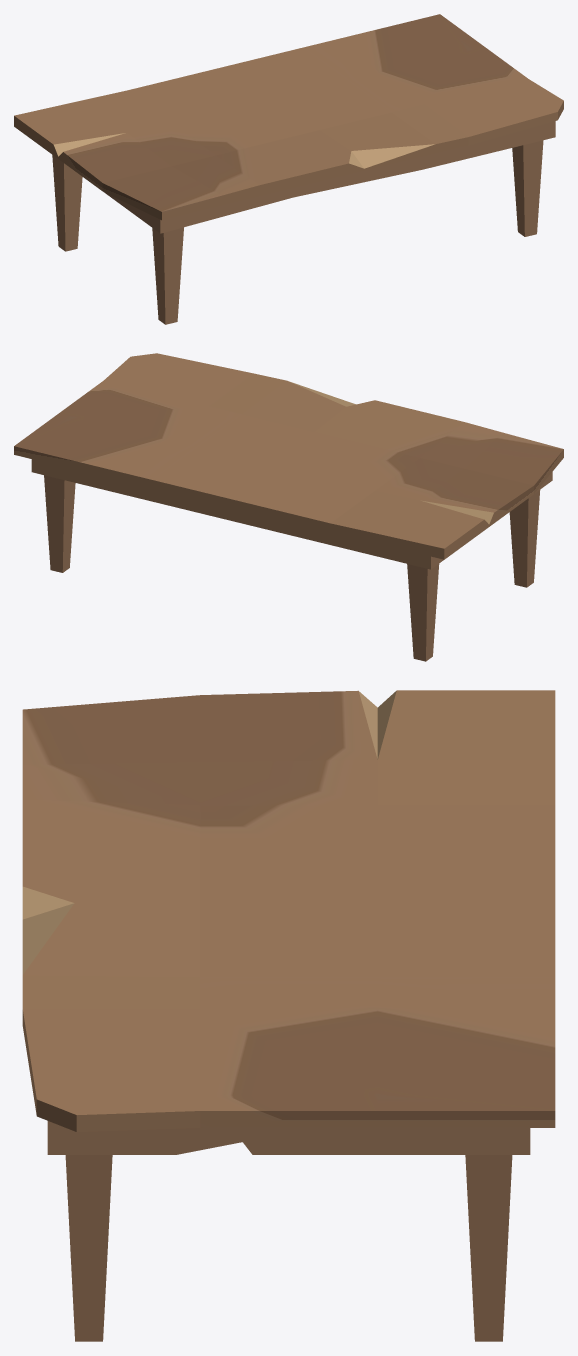
The model's file is SM_Coffee_Table.fbx.
3 renders of one model, top to bottom at view 1: azimuth 30°, elevation 25°; view 2: azimuth 150°, elevation 25°; view 3: azimuth 270°, elevation 25°, orthographic. The views are drawn at different scales.
Visible parts, largest first — view 1: SM_Coffee_Table; view 2: SM_Coffee_Table; view 3: SM_Coffee_Table.
Boxes of the visible parts, left/top/right/bottom form: SM_Coffee_Table: left=14, top=14, right=563, bottom=324; SM_Coffee_Table: left=14, top=353, right=563, bottom=661; SM_Coffee_Table: left=22, top=690, right=555, bottom=1341.
Bounding box in the file's own units: 206 × 59.23 × 110.
